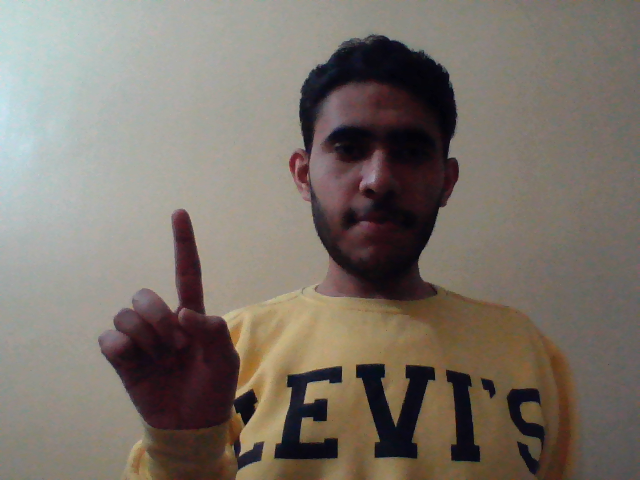D: (91, 205, 245, 437)
